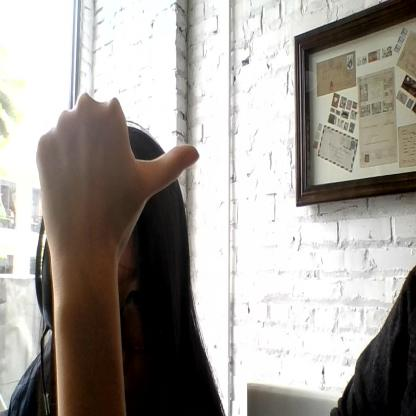left: (35, 92, 200, 275)
